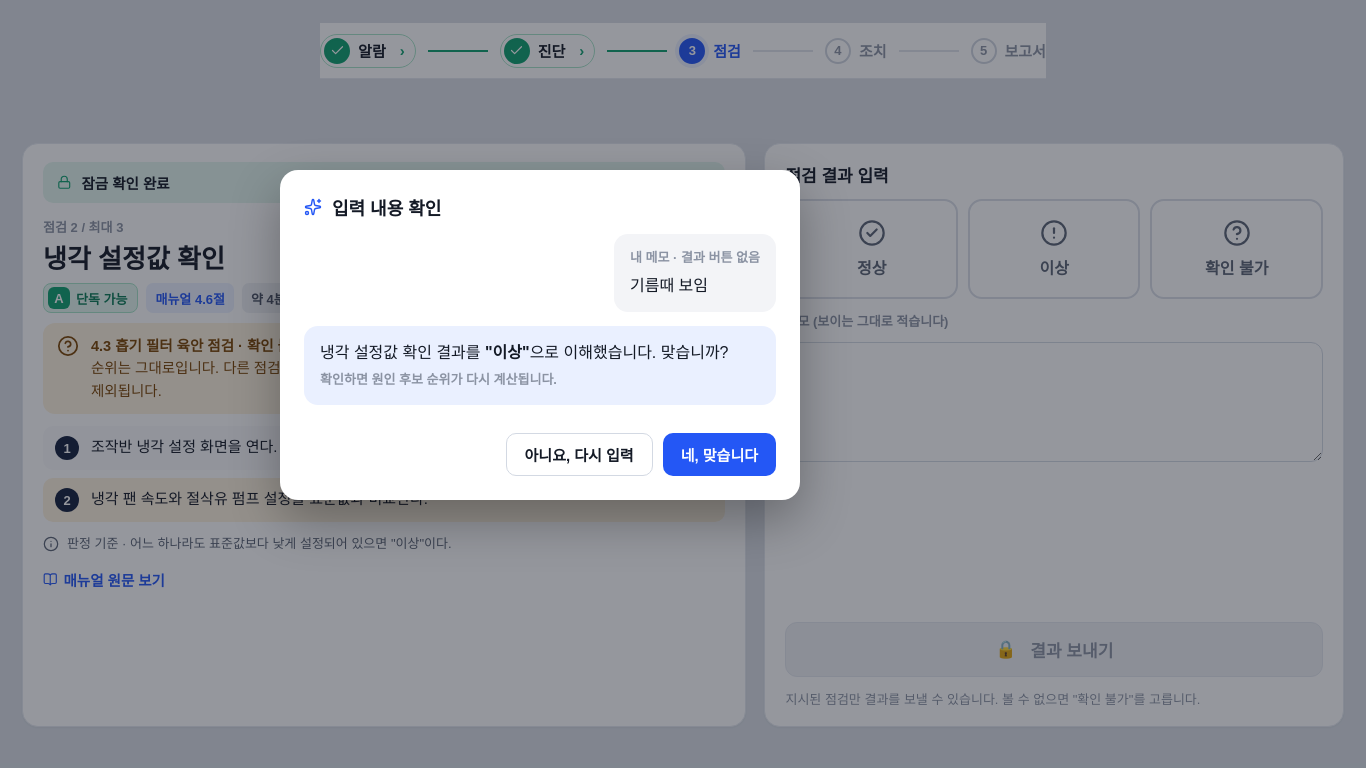
Test case: 확인 질문 '아니요' → 같은 지시 · 보낸 메모가 입력 칸에, 보낸 요청은 confirm_answer yes=false
Expected: the text "입력 내용 확인" is shown, [332,194,441,220]
Click the button "아니요, 다시 입력" at (579,454), box [506,433,653,476]
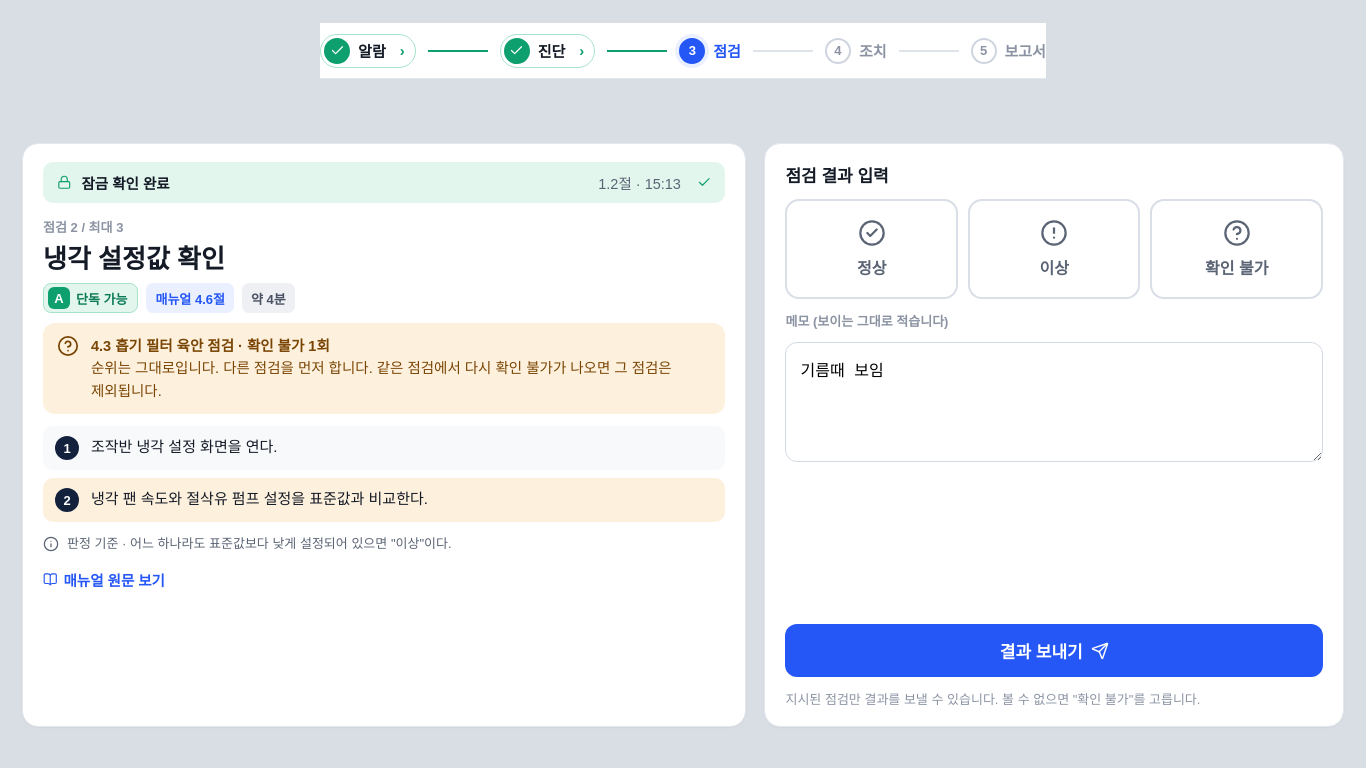
Expected: the heading "냉각 설정값 확인" is shown, [43,244,225,274]
Expected: the dialog with class "modal" is gone
Expected: the text box with class "memo" holds "기름때 보임", [785,342,1323,462]
